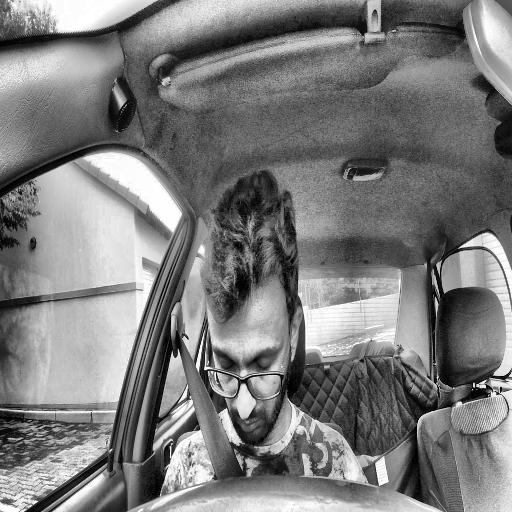drowsy: (203, 167, 304, 446)
